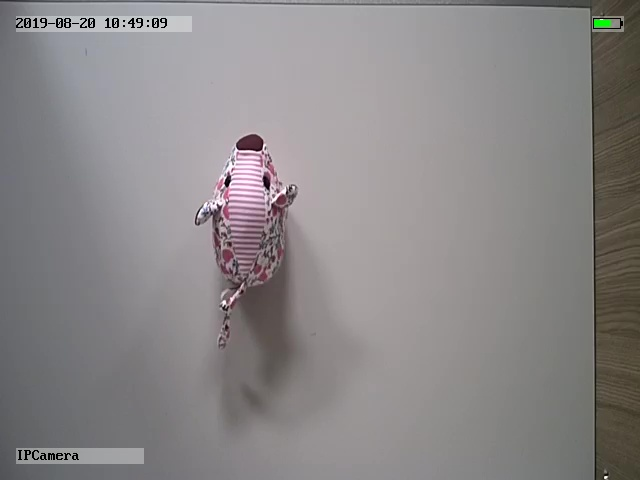pig: (194, 132, 299, 350)
